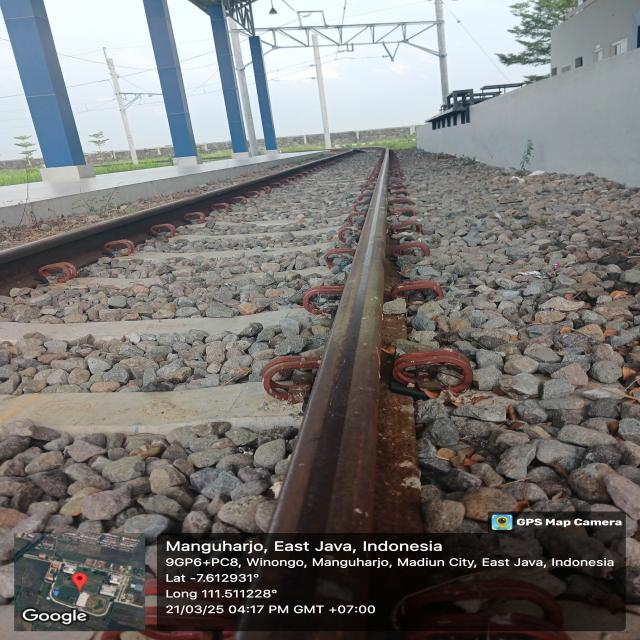rail-detection: (0, 151, 356, 294), (271, 150, 390, 533)
